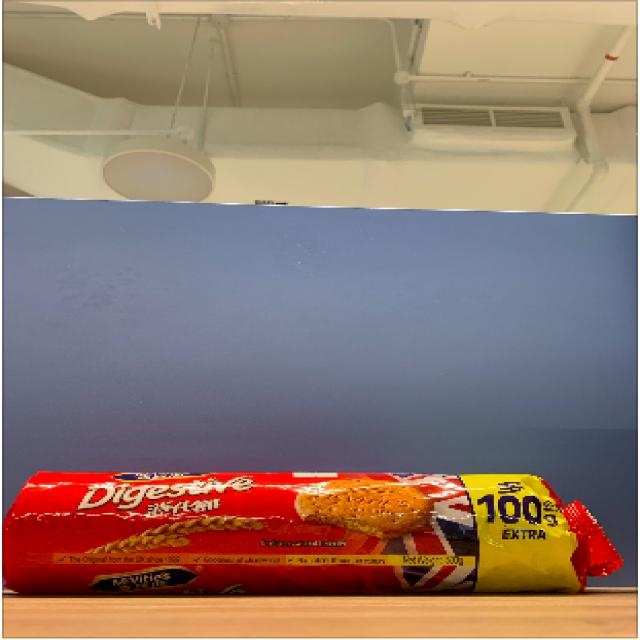object_name: (19, 477, 583, 593)
